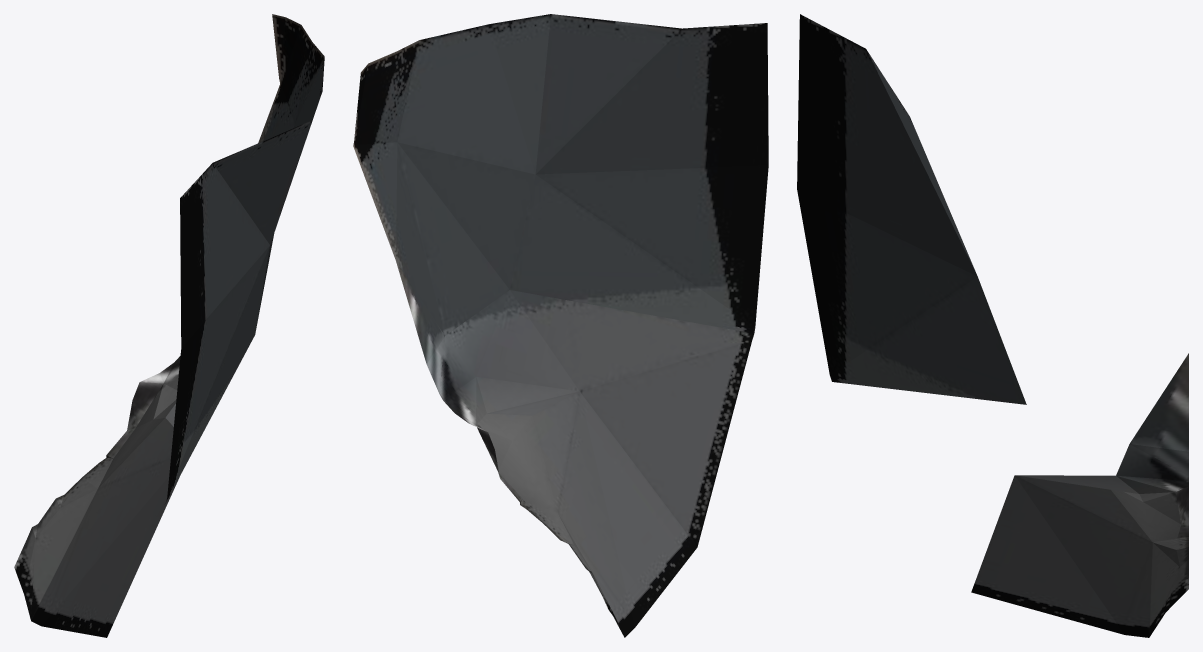
The picture shows the model from 3 angles, left to right: view 1: azimuth 30°, elevation 25°; view 2: azimuth 150°, elevation 25°; view 3: azimuth 270°, elevation 25°; orthographic projection. The views are drawn at different scales.
Size of the model in its own units: 0.8795 by 1.66 by 0.9468.
Materials: 2 (2 with a texture image).
